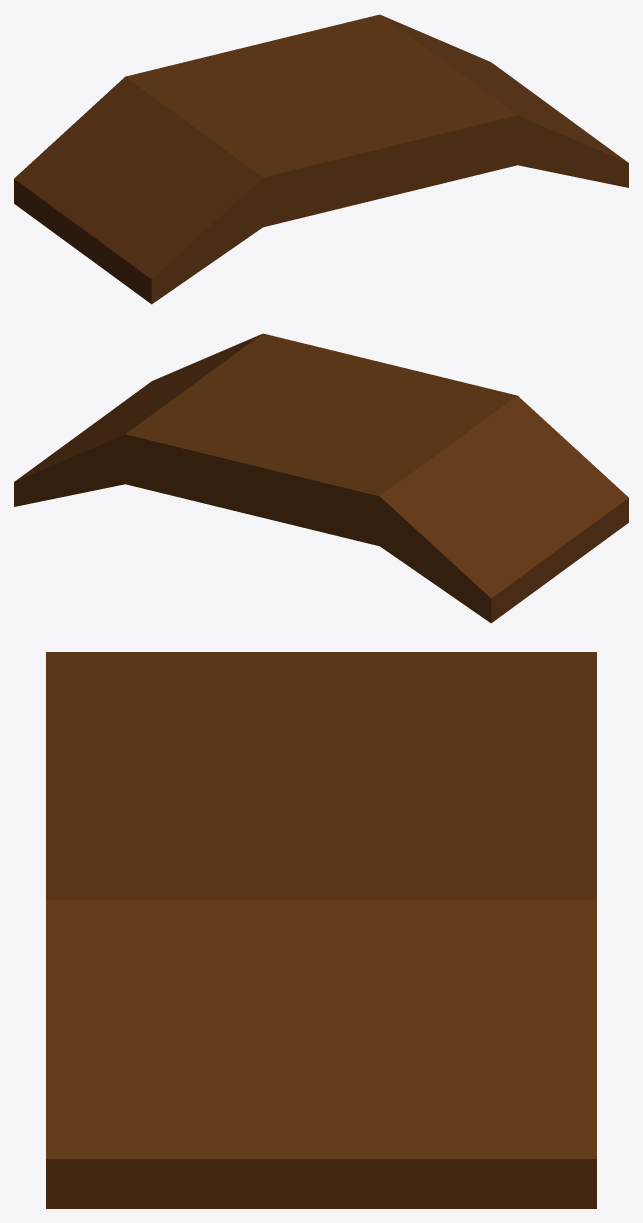
Rendered from Bridge.glb.
3 views of the same model, one above another, from view 1: azimuth 30°, elevation 25°; view 2: azimuth 150°, elevation 25°; view 3: azimuth 270°, elevation 25° (orthographic). The views are drawn at different scales.
Visible parts, largest first — view 1: Bridge; view 2: Bridge; view 3: Bridge.
Boxes of the visible parts, bbox=[...] form: Bridge: bbox=[14, 14, 628, 304]; Bridge: bbox=[14, 333, 628, 623]; Bridge: bbox=[46, 652, 596, 1208].
Bounding box in the file's own units: 1 × 0.2 × 0.5.
